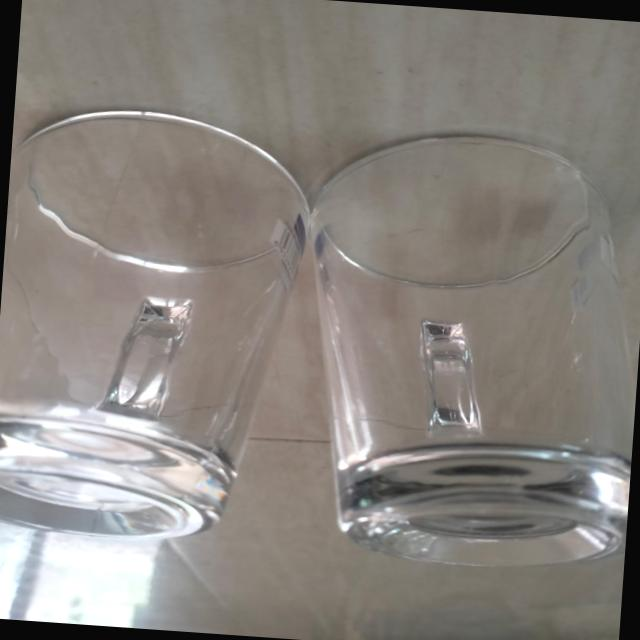glass-VX4N: (288, 124, 640, 581), (0, 101, 306, 553)
